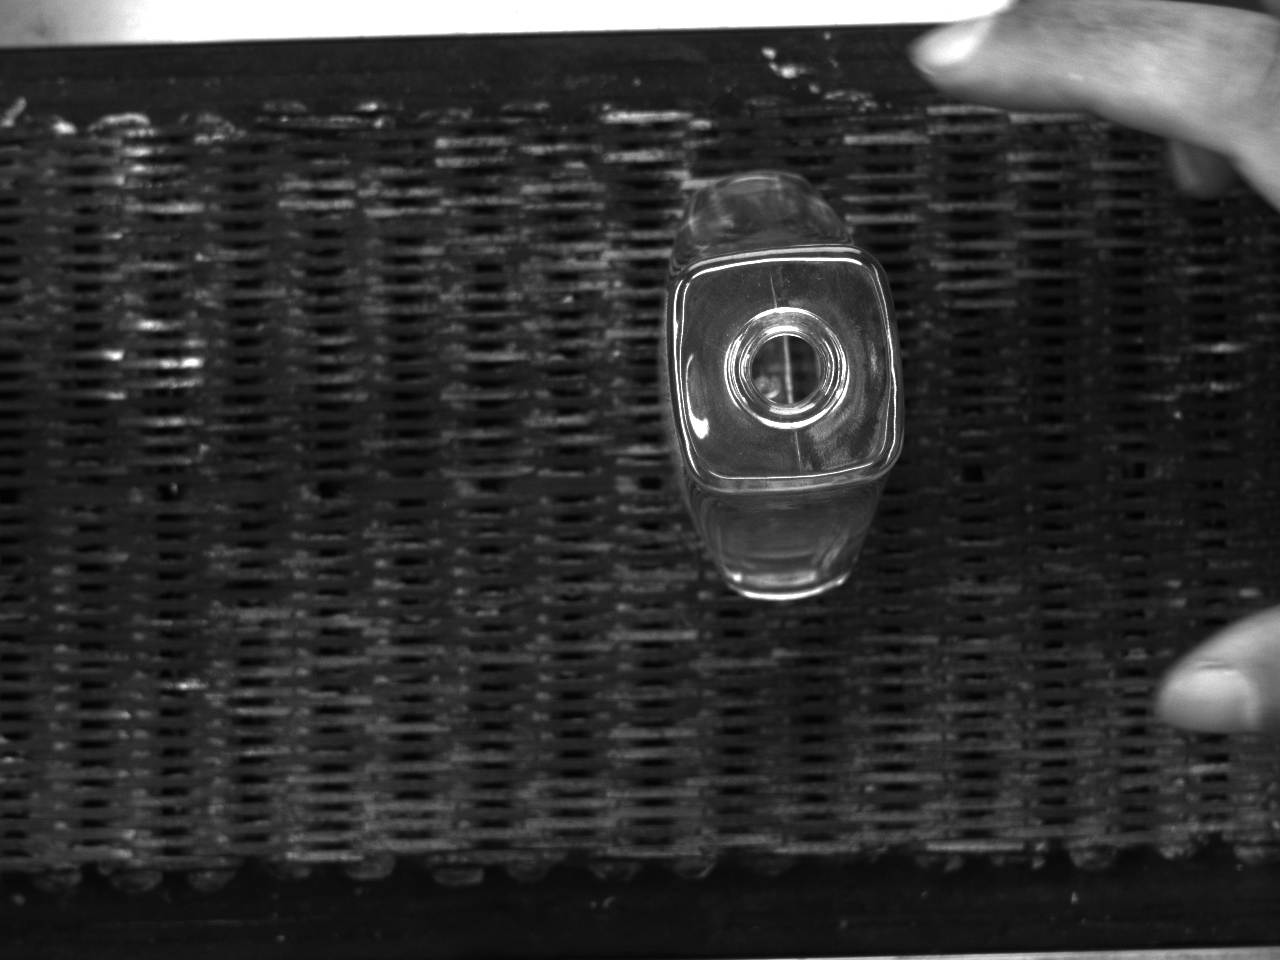bottleneck: (726, 307, 850, 431)
